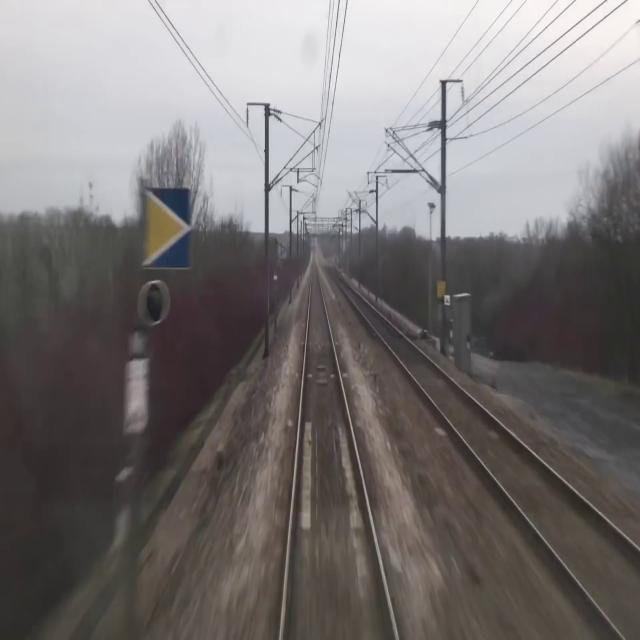rail-track: (321, 255, 640, 639), (284, 261, 395, 639)
